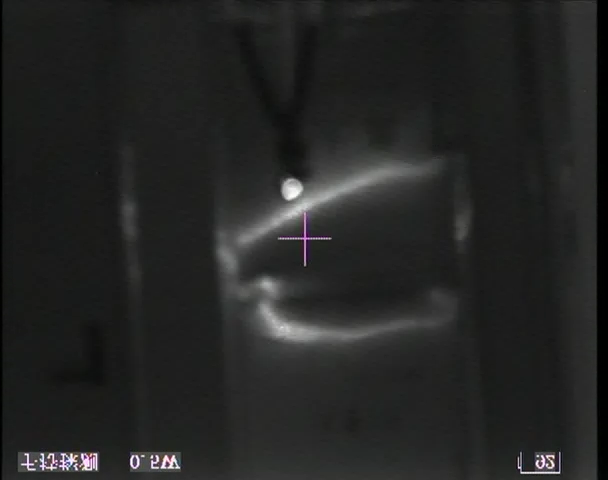my: (279, 175, 305, 202)
